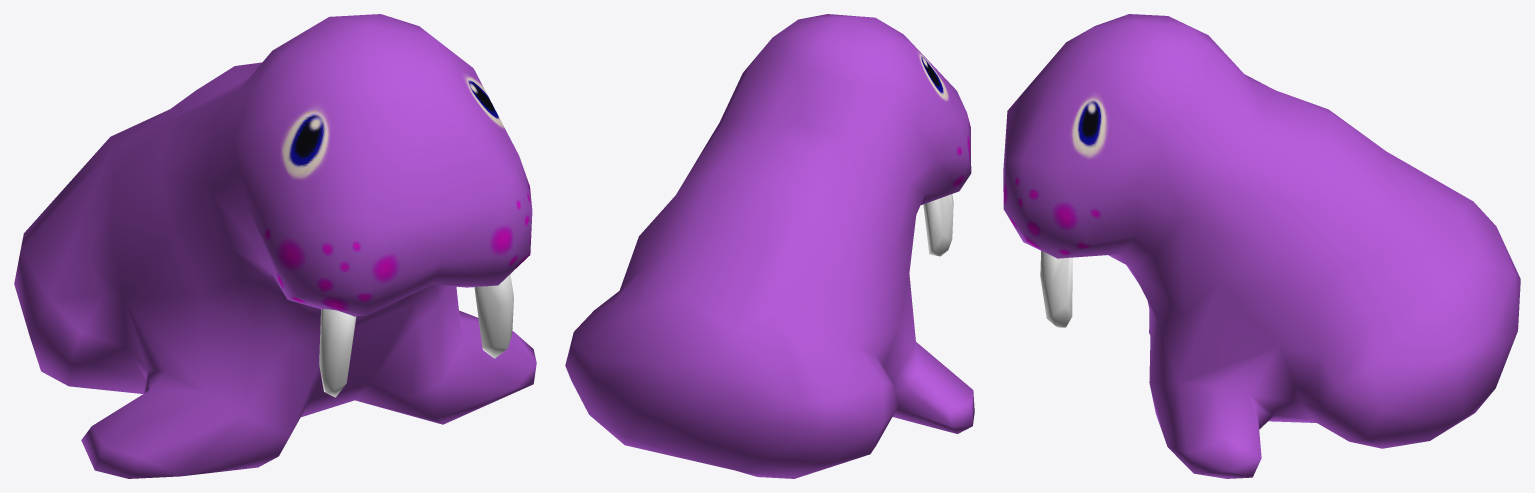
File: foca.fbx
3 views of the same model, side by side, from view 1: azimuth 30°, elevation 25°; view 2: azimuth 150°, elevation 25°; view 3: azimuth 270°, elevation 25° (orthographic). The views are drawn at different scales.
Visible parts, largest first — view 1: Group57339; view 2: Group57339; view 3: Group57339.
Part boxes in pixels (x1=…): Group57339: x1=14, y1=14, x2=536, y2=478; Group57339: x1=565, y1=14, x2=974, y2=478; Group57339: x1=1003, y1=14, x2=1520, y2=478.
Size of the model in its own units: 861 by 816 by 1021.
Materials: 2 (1 with a texture image).
